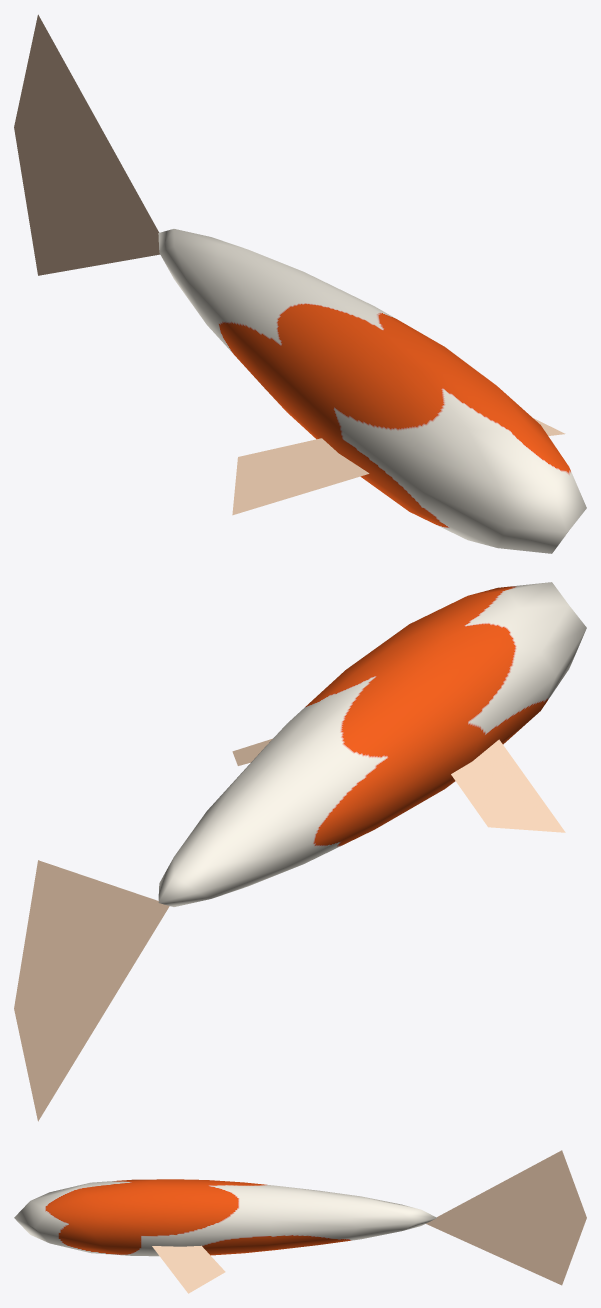
The model's file is Koi_0.glb.
The picture shows the model from 3 angles, top to bottom: view 1: azimuth 30°, elevation 25°; view 2: azimuth 150°, elevation 25°; view 3: azimuth 270°, elevation 25°; orthographic projection. The views are drawn at different scales.
Parts seen in each view (by area): view 1: Koi_0, Tail; view 2: Koi_0, Tail; view 3: Koi_0, Tail.
Part boxes in pixels (left/top/right/bottom): Koi_0: left=158, top=229, right=586, bottom=553; Tail: left=14, top=14, right=159, bottom=275; Koi_0: left=158, top=582, right=586, bottom=906; Tail: left=14, top=860, right=169, bottom=1121; Koi_0: left=14, top=1179, right=436, bottom=1293; Tail: left=426, top=1150, right=586, bottom=1285.
Size of the model in its own units: 0.16 by 0.12 by 0.46.
2 materials, 1 textured.
